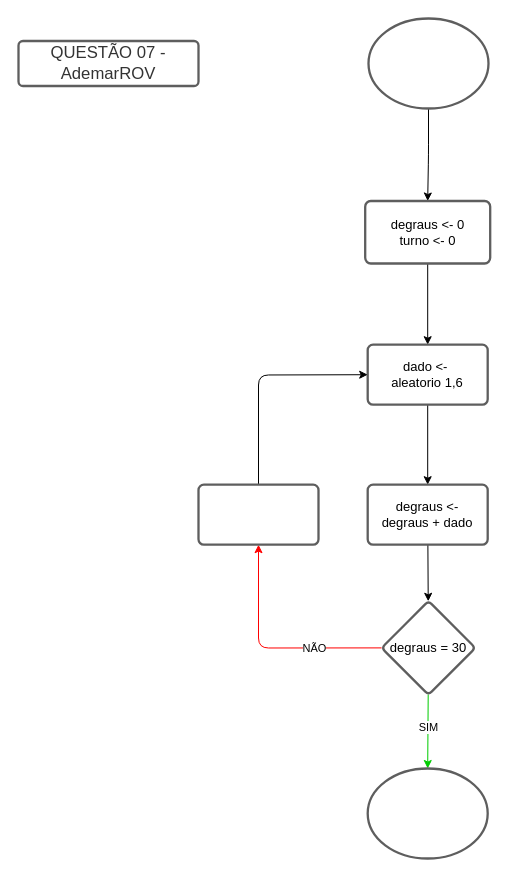
Image size: 508x877. Some labels were removed from this diagram. The centre of each missing label's shape, as x and y in pixels:
FIM: the point at 427,813
INICIO: the point at 428,63
turno <- turno + 1: the point at 258,514
